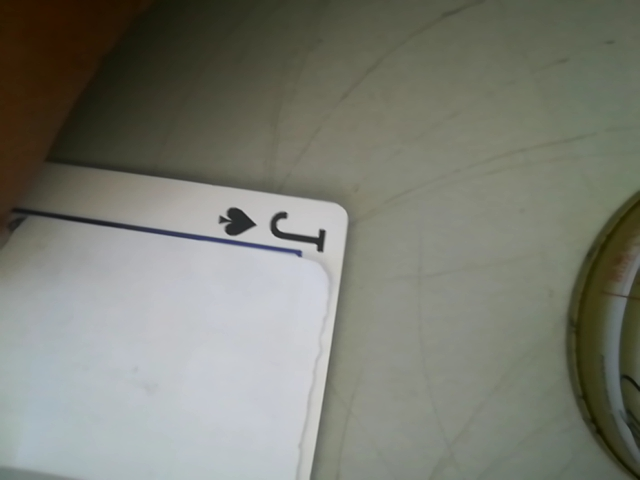ht j: (188, 200, 343, 257)
